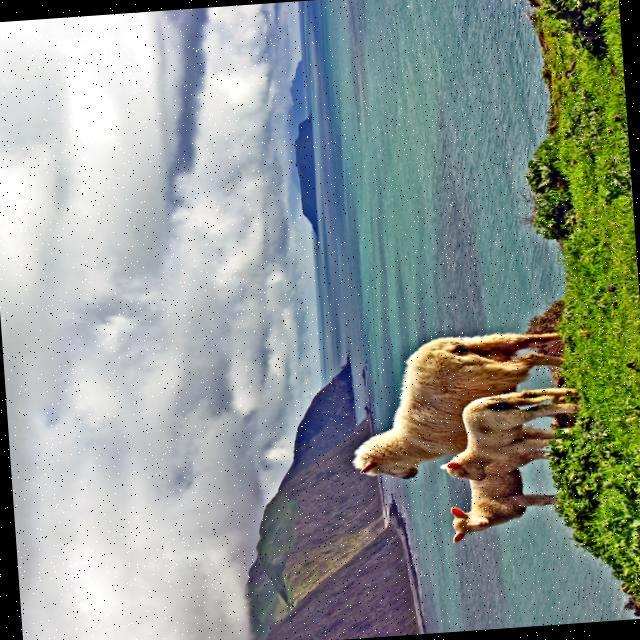sheep: (351, 332, 558, 477), (450, 449, 555, 539)
